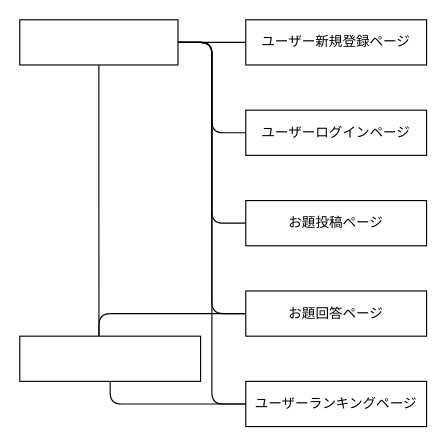
The diagram is 446 pixels wide and 446 high, and some of its shapes have lost their labels. The shapes that lost their labels are listed below. From the top down, each one's centre as x and y in pixels, then its label:
At pixel 98 42: "お題一覧ページ".
At pixel 110 358: "ユーザー詳細ページ".
